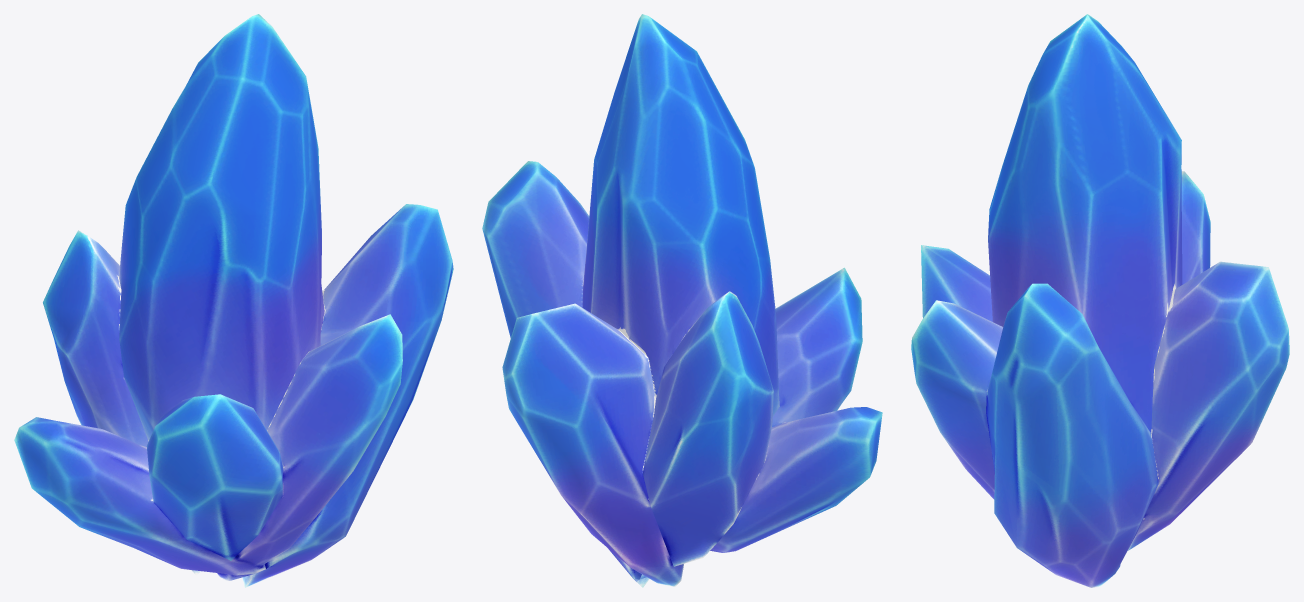
The model's file is med.gltf.
3 views of the same model, side by side, from view 1: azimuth 30°, elevation 25°; view 2: azimuth 150°, elevation 25°; view 3: azimuth 270°, elevation 25° (orthographic).
Visible parts, largest first — view 1: Crystal (1)_3; view 2: Crystal (1)_3; view 3: Crystal (1)_3.
Part boxes in pixels (x1,y1,x2,y2): Crystal (1)_3: [14, 14, 453, 587]; Crystal (1)_3: [482, 14, 882, 587]; Crystal (1)_3: [911, 14, 1289, 587].
Bounding box in the file's own units: 1.2 × 1.62 × 0.9695.
1 material, 1 textured.
